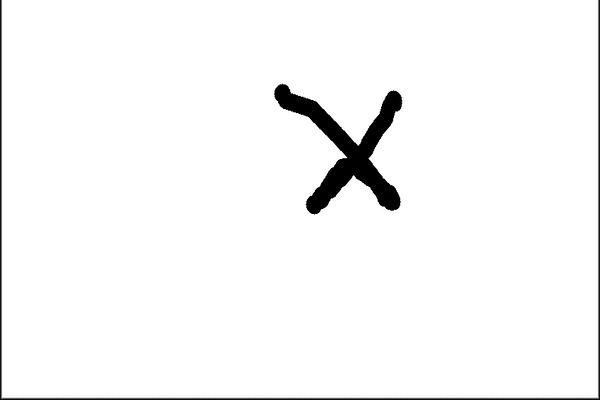X: (260, 59, 439, 226)
